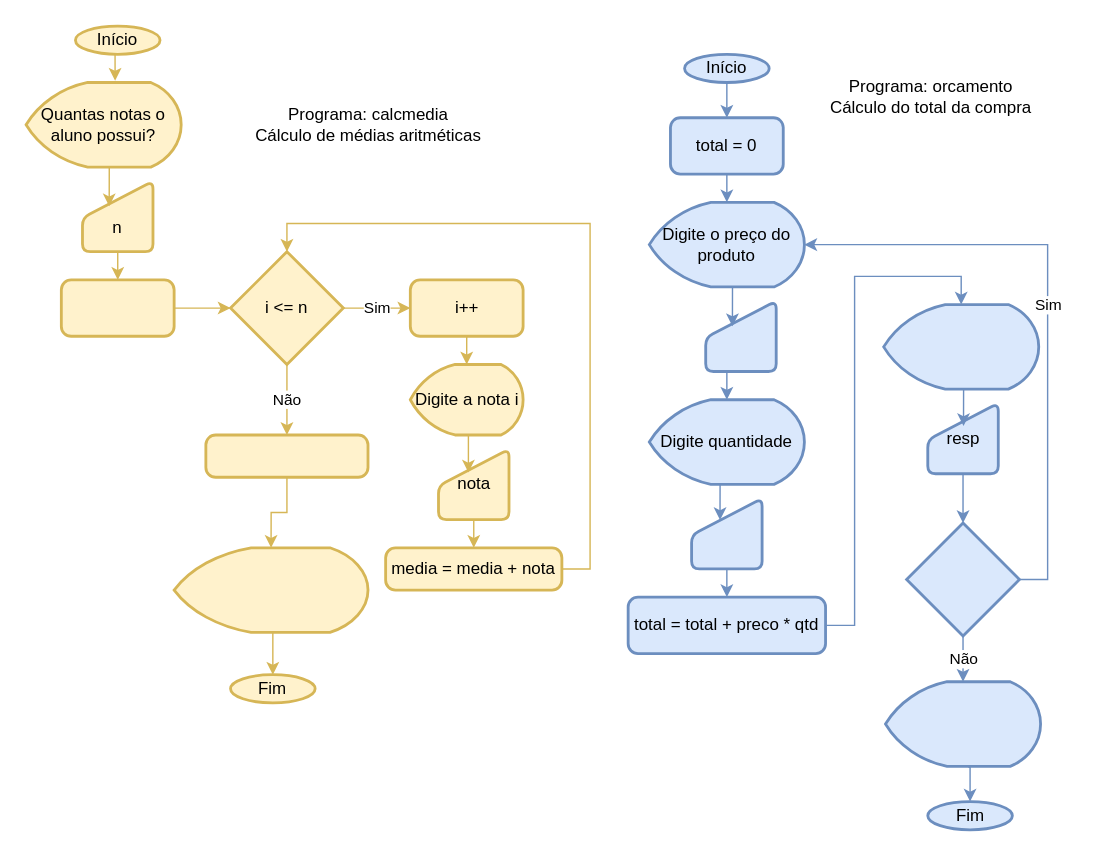
Some shapes in this 1096 by 854 pixel diagram are drawn without their labels. Here are the shapes that lost their labels. From the top down, the box of each, then its label:
(59, 278, 175, 337): media = 0 i = 1
(704, 299, 777, 372): preco
(882, 302, 1039, 390): Mais algum produto s/n?
(204, 433, 369, 478): media = media / n
(689, 496, 763, 570): qtd
(172, 546, 369, 633): A média do aluno é media
(905, 521, 1020, 637): resp == 's'
(883, 680, 1041, 767): O total de seu orçamento é total
